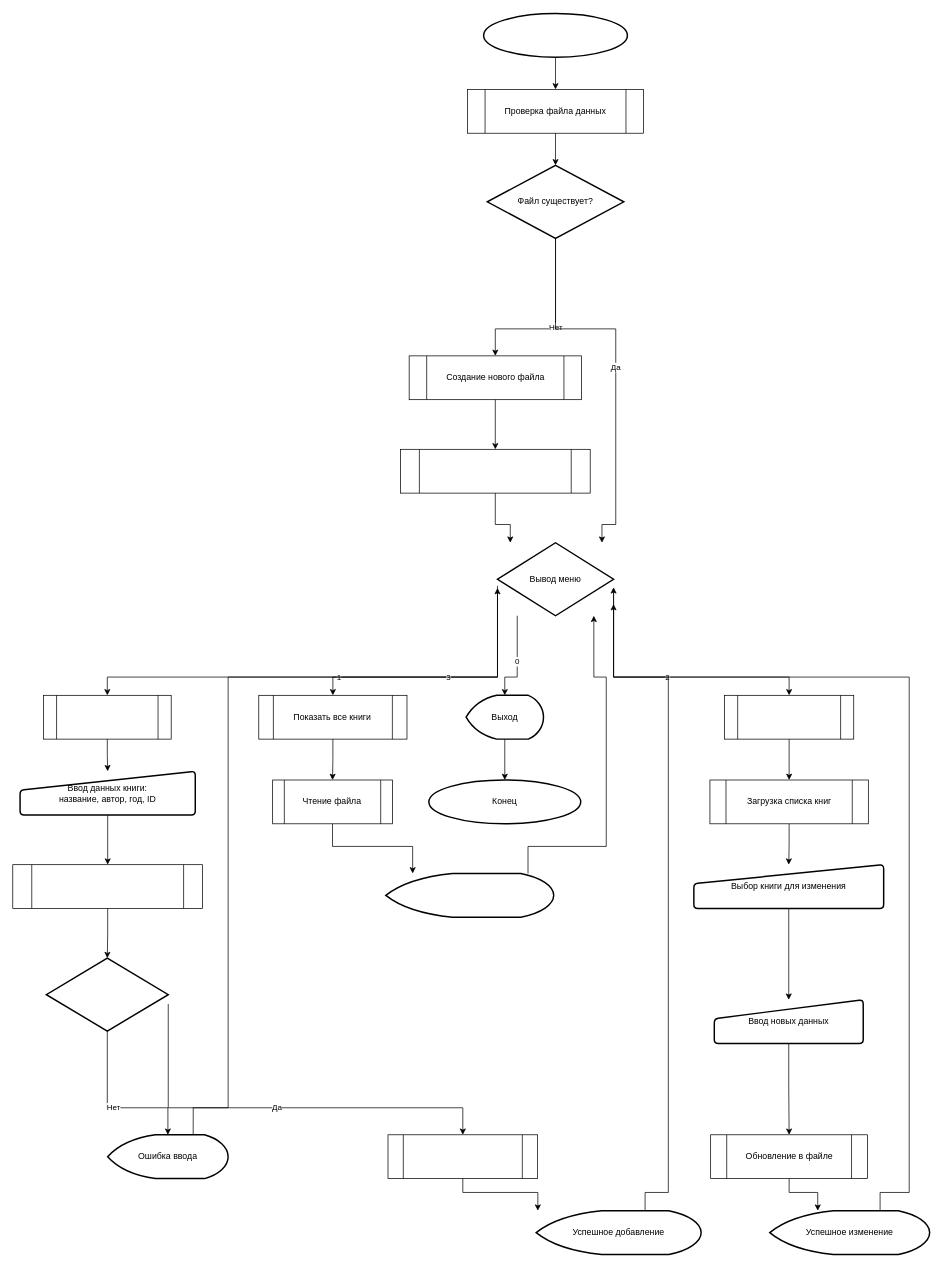
The diagram is 943 pixels wide and 1267 high, and some of its shapes have lost their labels. The shapes that lost their labels are listed below. From the top down, each one's centre as x and y in pixels, then its label:
At point (555, 35): "Начало".
At point (495, 471): "Запись текущей даты в файл".
At point (107, 717): "Добавить книгу".
At point (789, 717): "Изменить книгу".
At point (107, 886): "Проверка корректности данных".
At point (469, 895): "Вывод списка на экран".
At point (107, 994): "Данные верны?".
At point (462, 1156): "Сохранение в файл".
